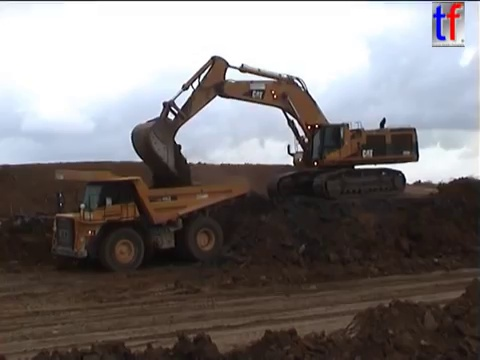excavator: (128, 53, 422, 203)
truck: (45, 166, 249, 274)
